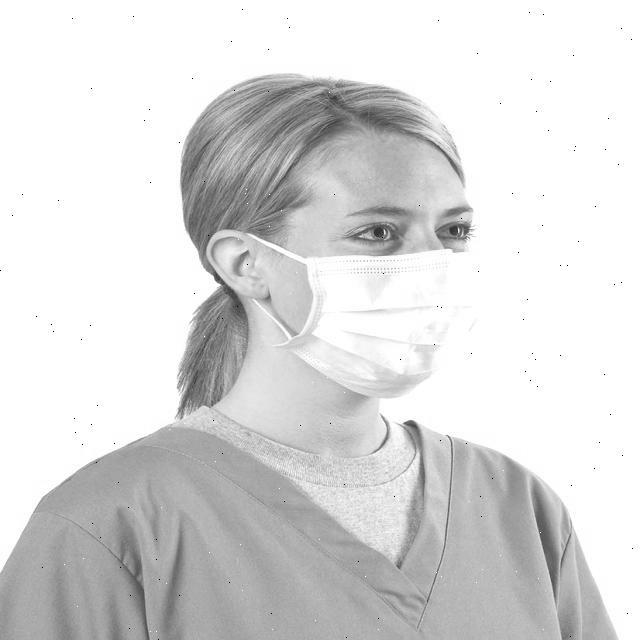fake: (281, 247, 491, 415)
real: (273, 127, 477, 410)
